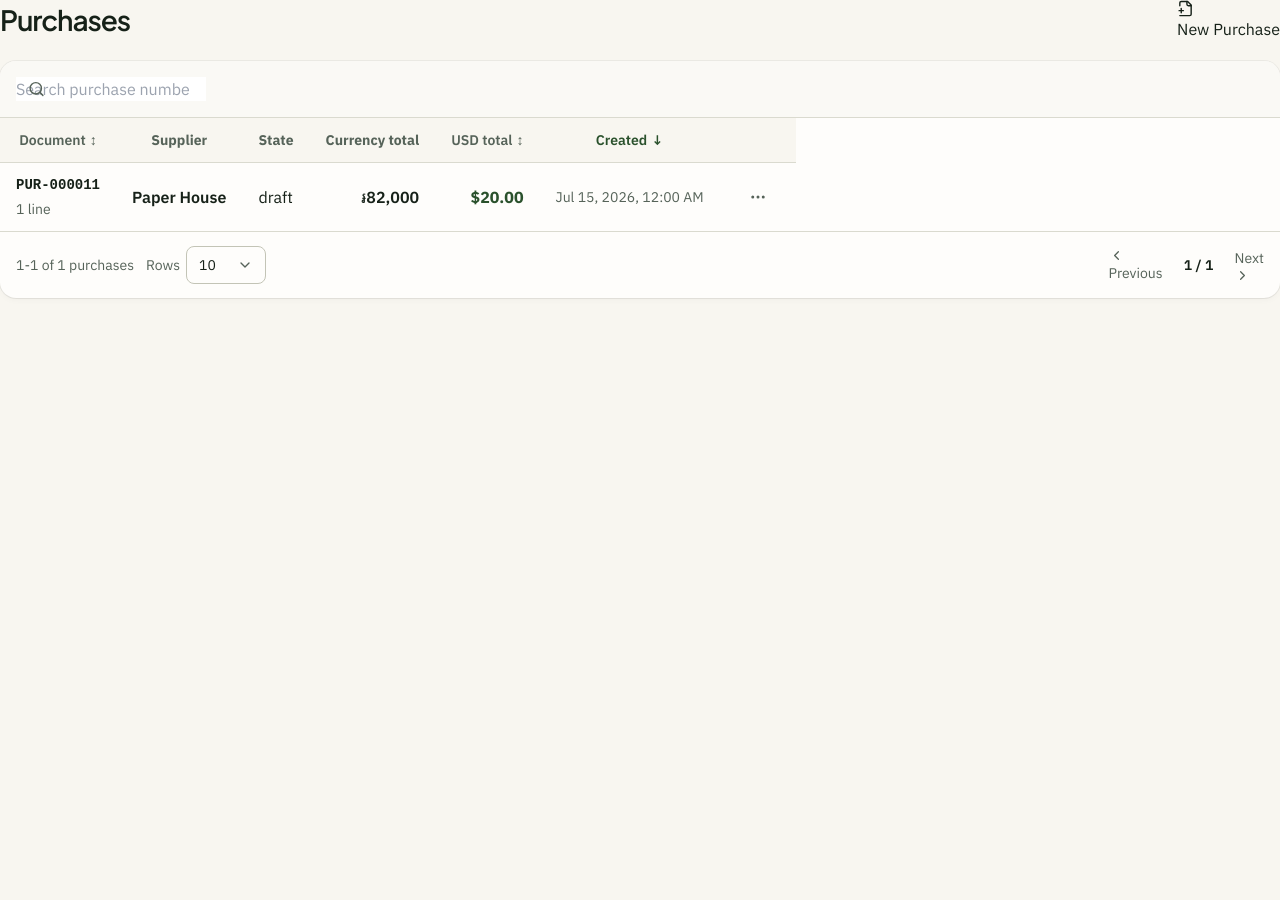
Test: PurchasePage › renders saved USD values from the purchase detail endpoint
This screenshot has width=1280, height=900.
Expected: the text "PUR-000011" is shown, [16,175,100,195]
Click the button named "More actions for PUR-000011": click(758, 197) [736,175,780,219]
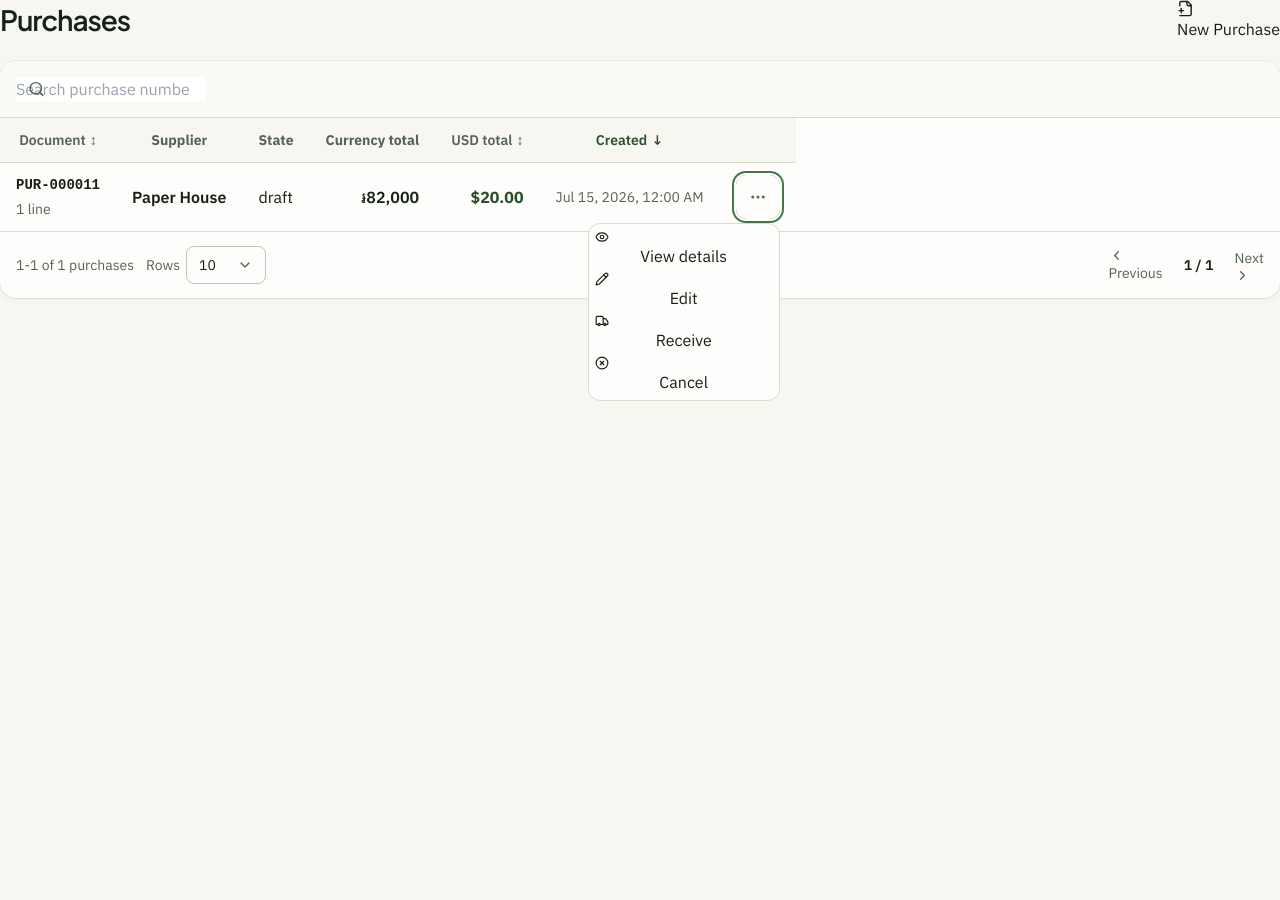
Click the menu item "View details": click(684, 249) [595,230,773,268]
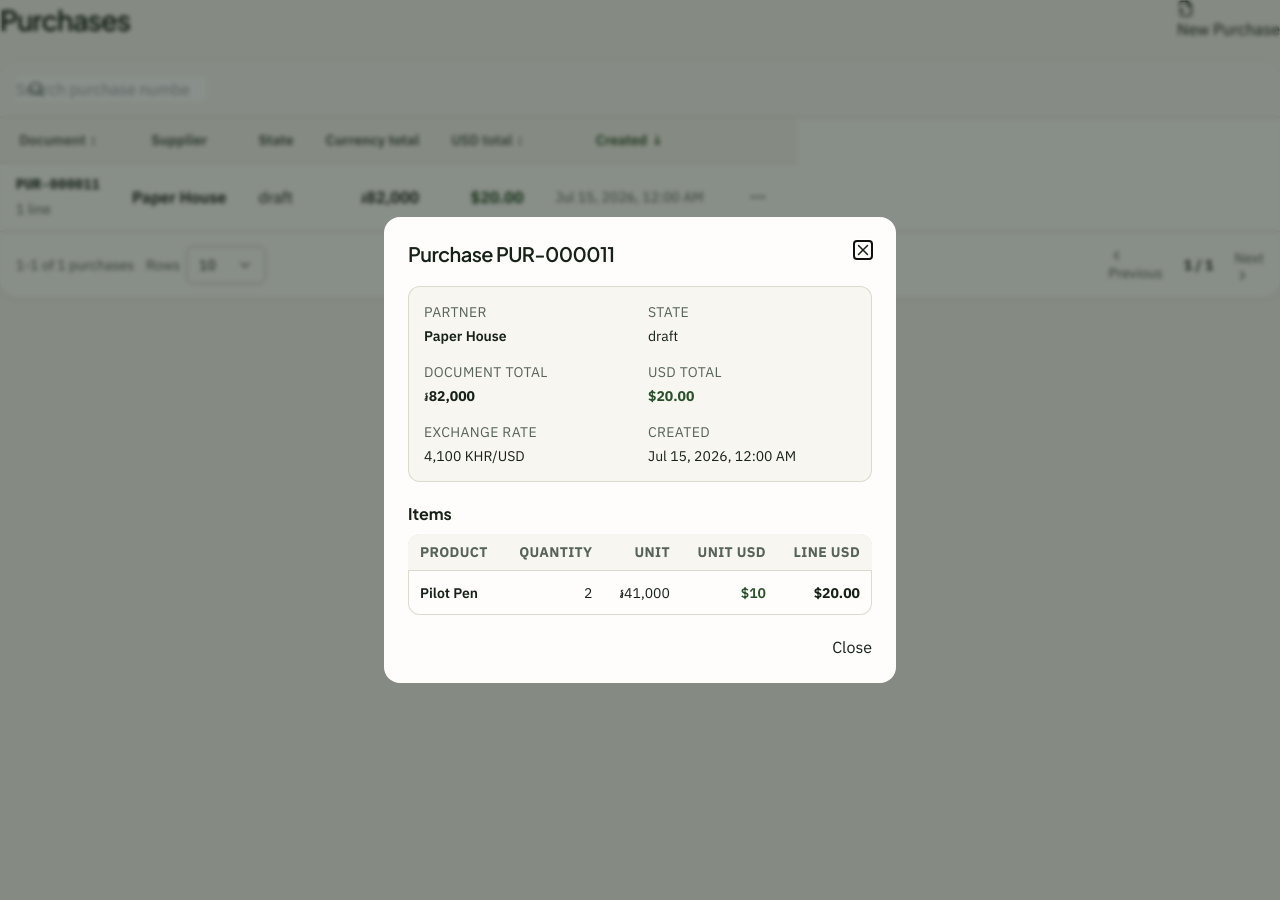
Expected: the text "$10" is shown, [682,570,778,615]
Expected: the text "$20.00" is shown 2 times, [648,387,694,405]; [778,570,872,615]
Expected: the text "4,100 KHR/USD" is shown, [424,447,525,465]
